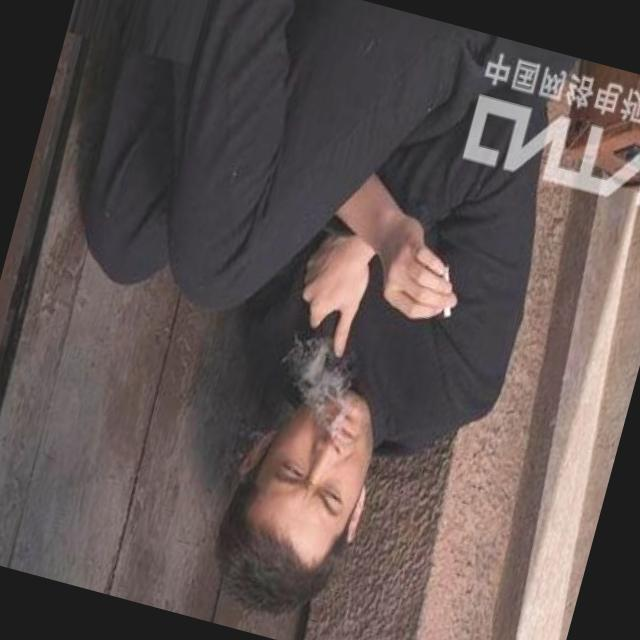cigarette: (431, 260, 465, 322)
